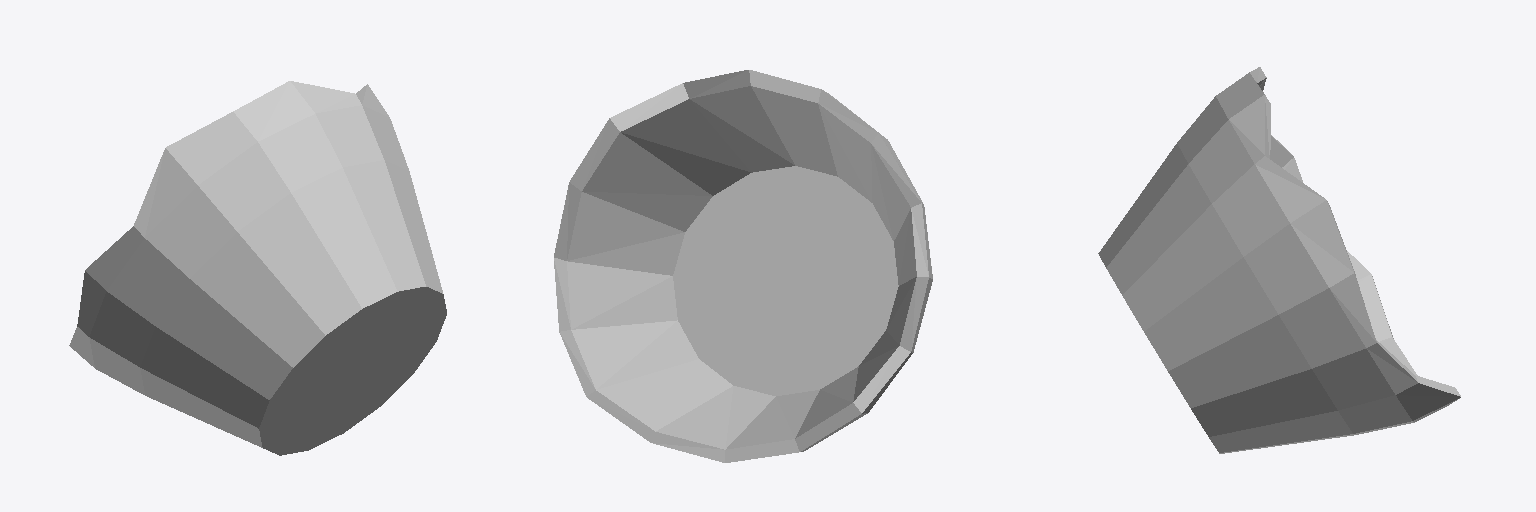
The model's file is jar_1_005.obj.
3 views of the same model, side by side, from view 1: azimuth 30°, elevation 25°; view 2: azimuth 150°, elevation 25°; view 3: azimuth 270°, elevation 25° (orthographic).
Parts seen in each view (by area): view 1: Jar_Broken_4_Cylinder.007; view 2: Jar_Broken_4_Cylinder.007; view 3: Jar_Broken_4_Cylinder.007.
Part boxes in pixels (bbox=[...]): Jar_Broken_4_Cylinder.007: bbox=[69, 81, 446, 455]; Jar_Broken_4_Cylinder.007: bbox=[554, 70, 932, 462]; Jar_Broken_4_Cylinder.007: bbox=[1098, 67, 1460, 453].
Size of the model in its own units: 0.8451 by 0.8482 by 0.8008.